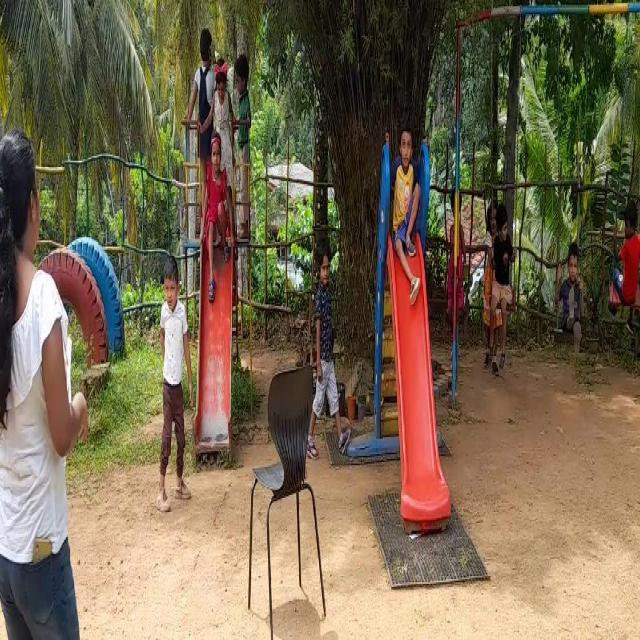adult: (0, 122, 77, 640)
child: (151, 249, 192, 496), (312, 230, 348, 451), (390, 118, 429, 297), (605, 181, 640, 323), (203, 138, 231, 290), (490, 189, 515, 350), (556, 226, 584, 358), (188, 19, 212, 168), (236, 51, 252, 230)
